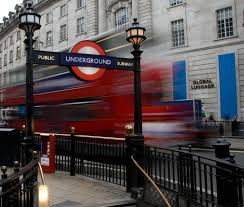London Underground: (65, 41, 111, 81)
